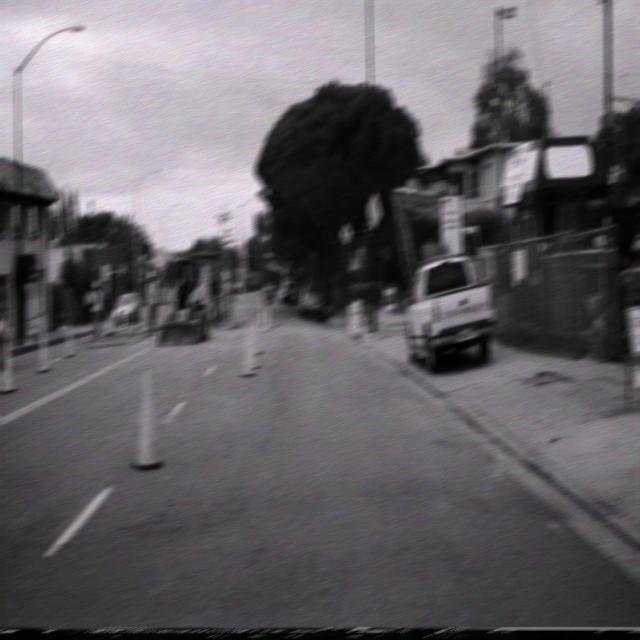pedestrianCrossing: (338, 221, 353, 245)
